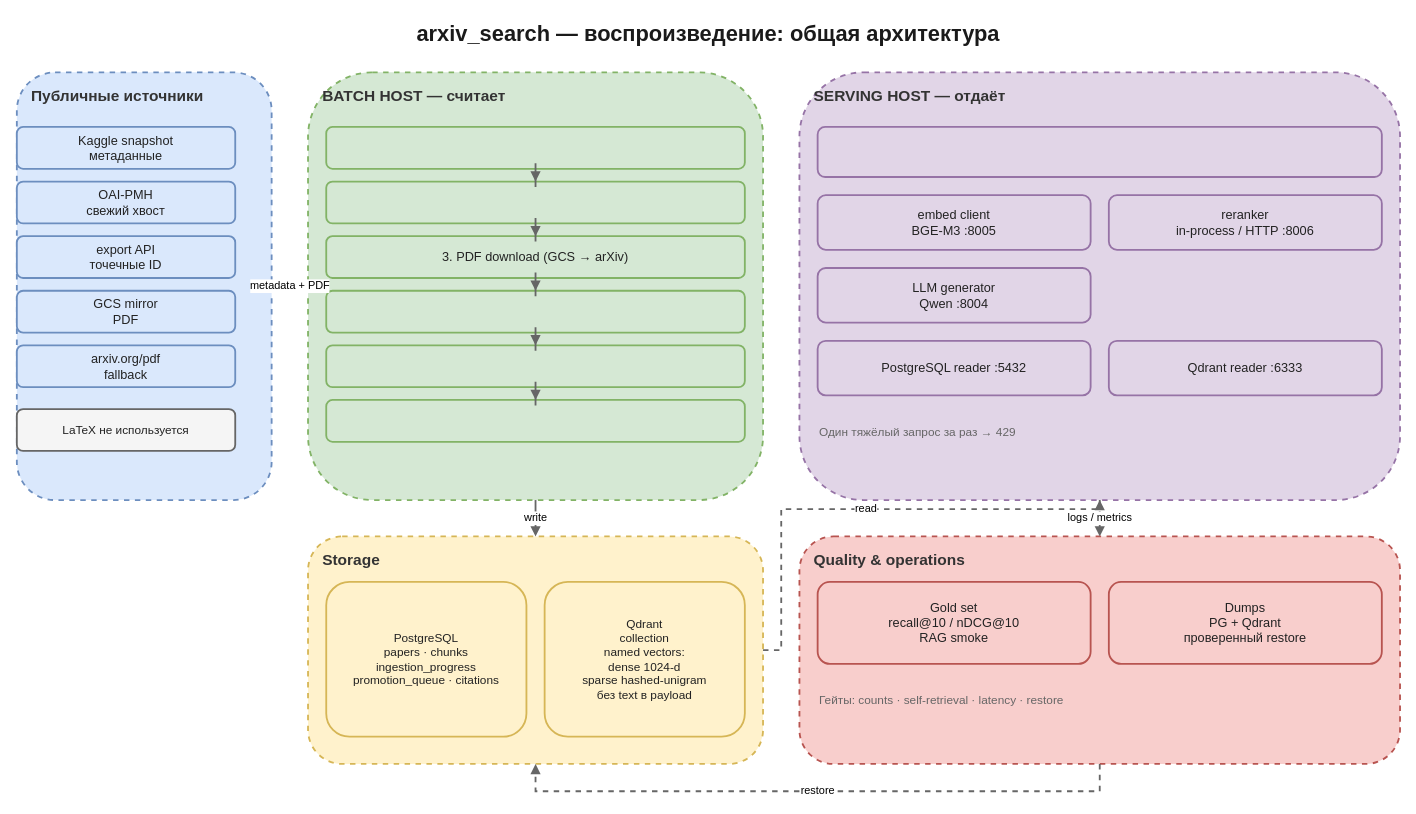
This 1416x814 diagram has some shape labels left out. Each missing label, with the centre of its shape:
"1. delta metadata + dedup" belongs at point (535, 147).
"2. policy selector abstract_tier" belongs at point (535, 202).
"4. Docling → markdown → chunks" belongs at point (535, 311).
"5. BGE-M3 embeddings" belongs at point (535, 366).
"6. write PostgreSQL + Qdrant" belongs at point (535, 420).
"FastAPI :8080 /search · /ask · /paper · /related" belongs at point (1099, 151).
